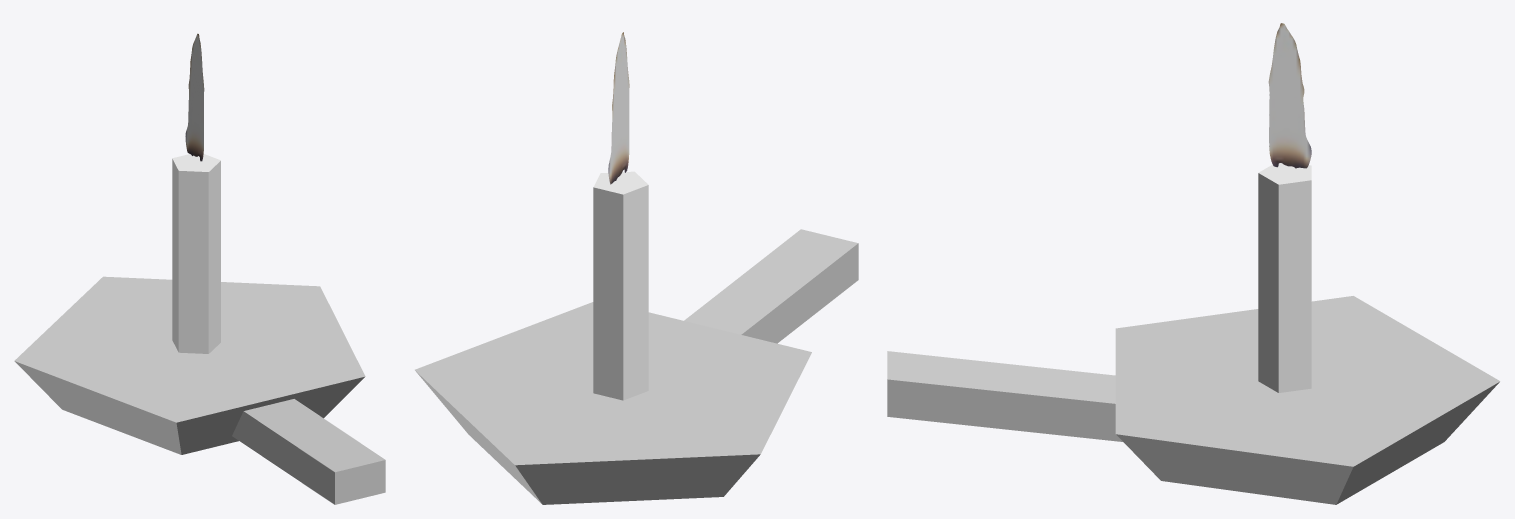
The model's file is Candle.fbx.
The picture shows the model from 3 angles, left to right: view 1: azimuth 30°, elevation 25°; view 2: azimuth 150°, elevation 25°; view 3: azimuth 270°, elevation 25°; orthographic projection. The views are drawn at different scales.
Visible parts, largest first — view 1: Candle; view 2: Candle; view 3: Candle.
Part boxes in pixels (x1,y1,x2,y2): Candle: (14,33,385,504); Candle: (415,32,858,504); Candle: (887,23,1500,504).
Bounding box in the file's own units: 25.21 × 29.43 × 38.21.
